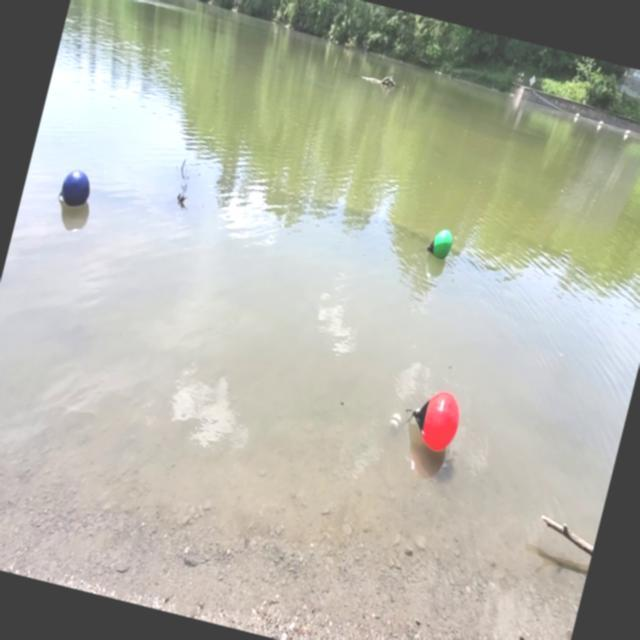buoy: (394, 382, 466, 461), (53, 162, 97, 214), (422, 224, 457, 262)
